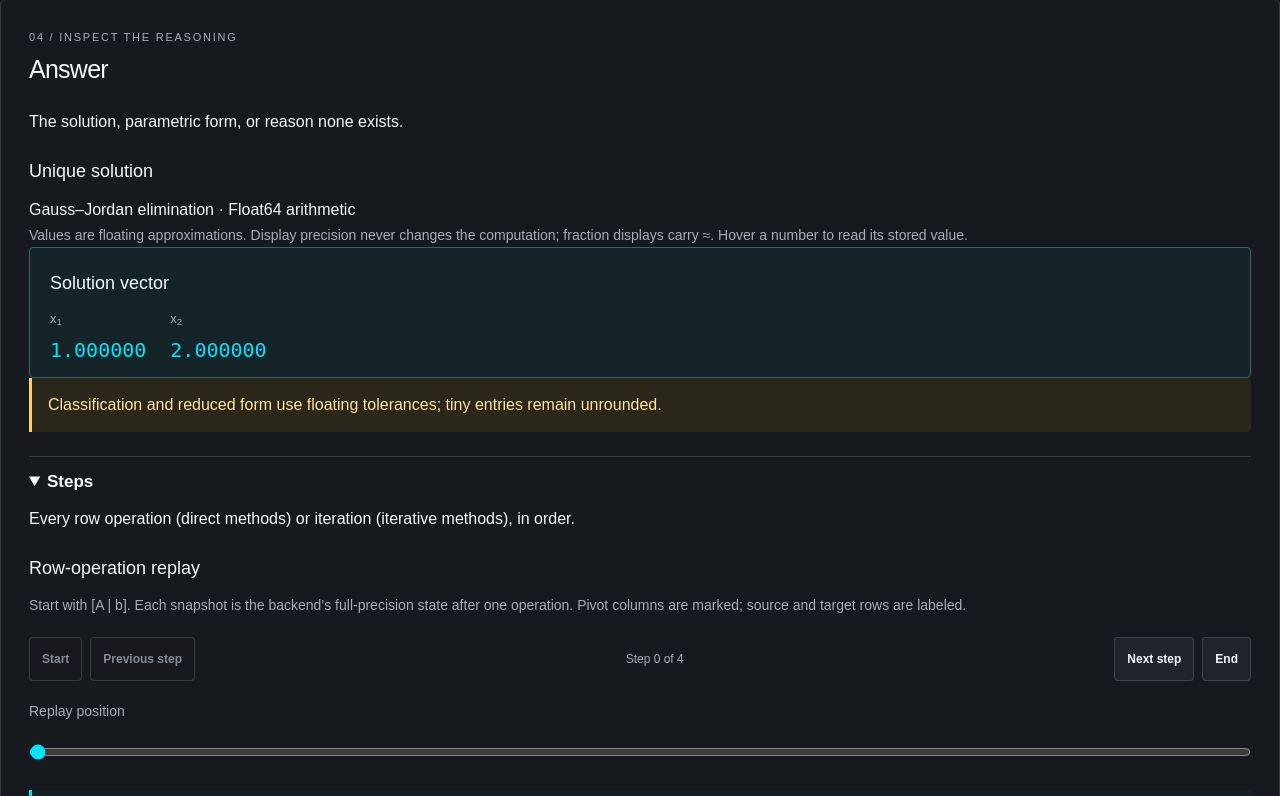
it: direct replay starts at original, highlights swaps, and honors boundaries
Check: the button "Previous step" is disabled, box [90,637,195,681]
Click the button "Next step".
click(1154, 659)  # box [1114,637,1194,681]
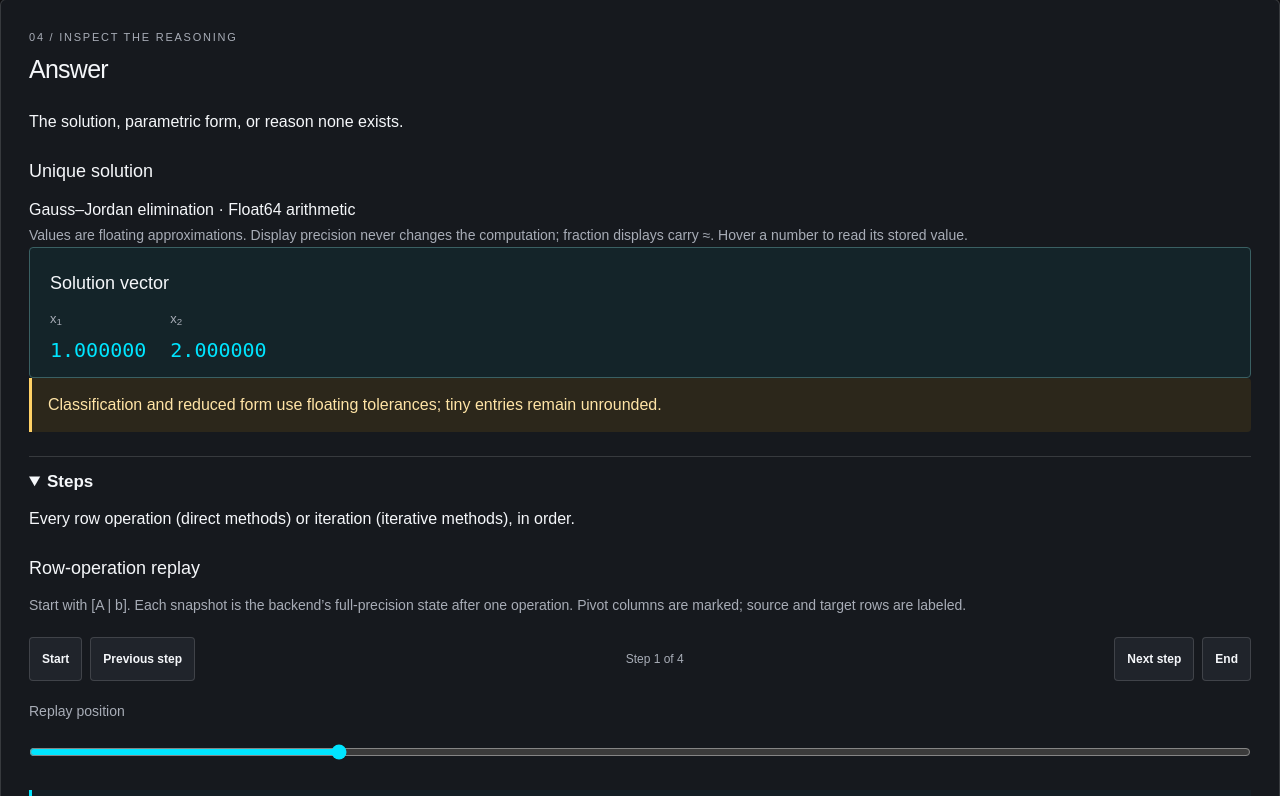
Click the button "End".
click(1227, 659)  # box [1202,637,1251,681]
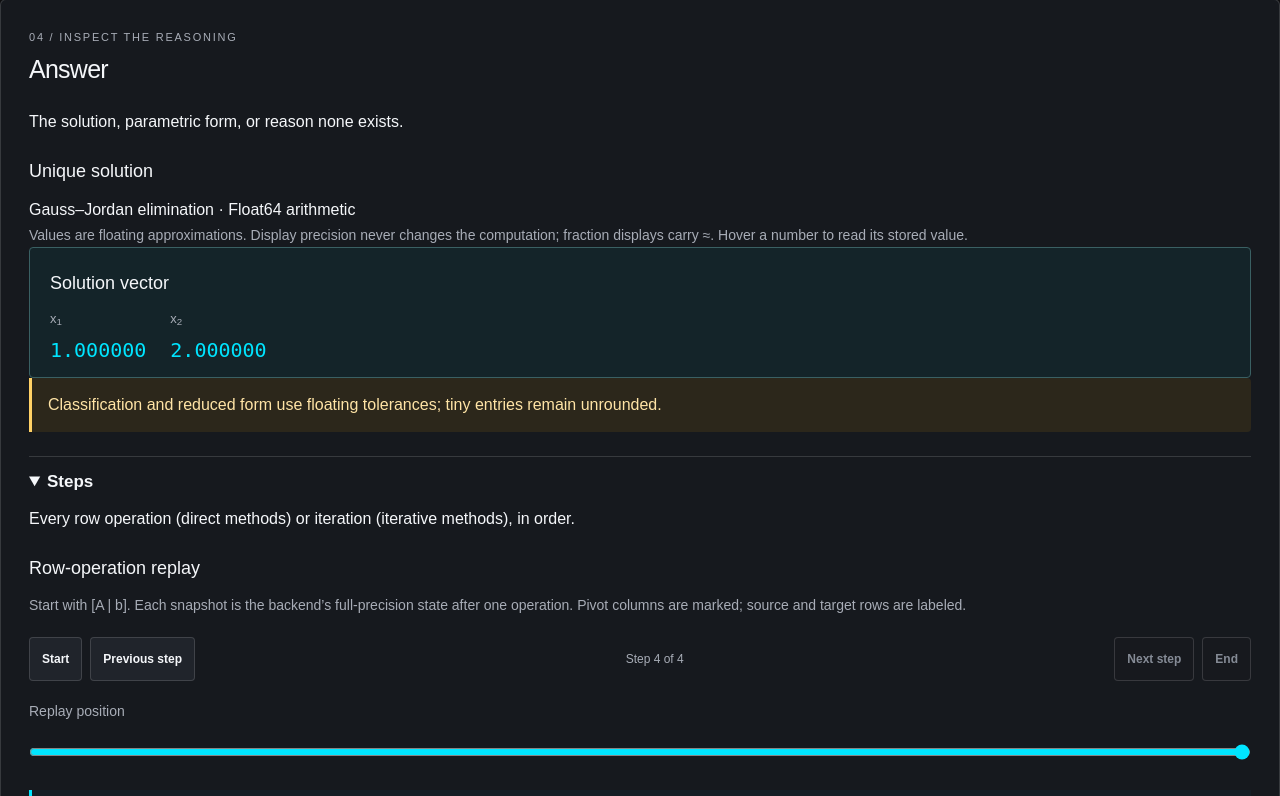
Check: the button "Next step" is disabled, box [1114,637,1194,681]
Click the button "Start".
click(56, 659)  # box [29,637,82,681]
(page scrolled)
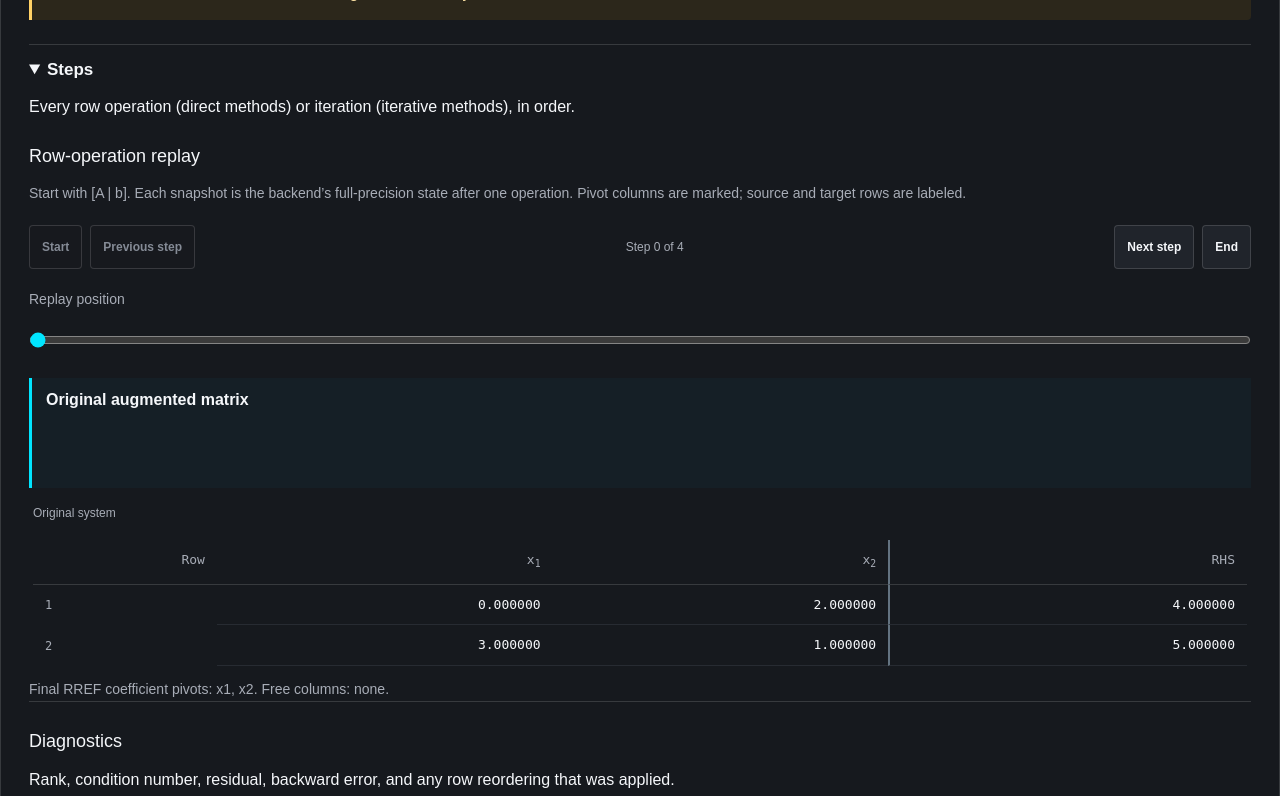
Check: the text "Original augmented matrix" is shown, box [46,391,249,408]
